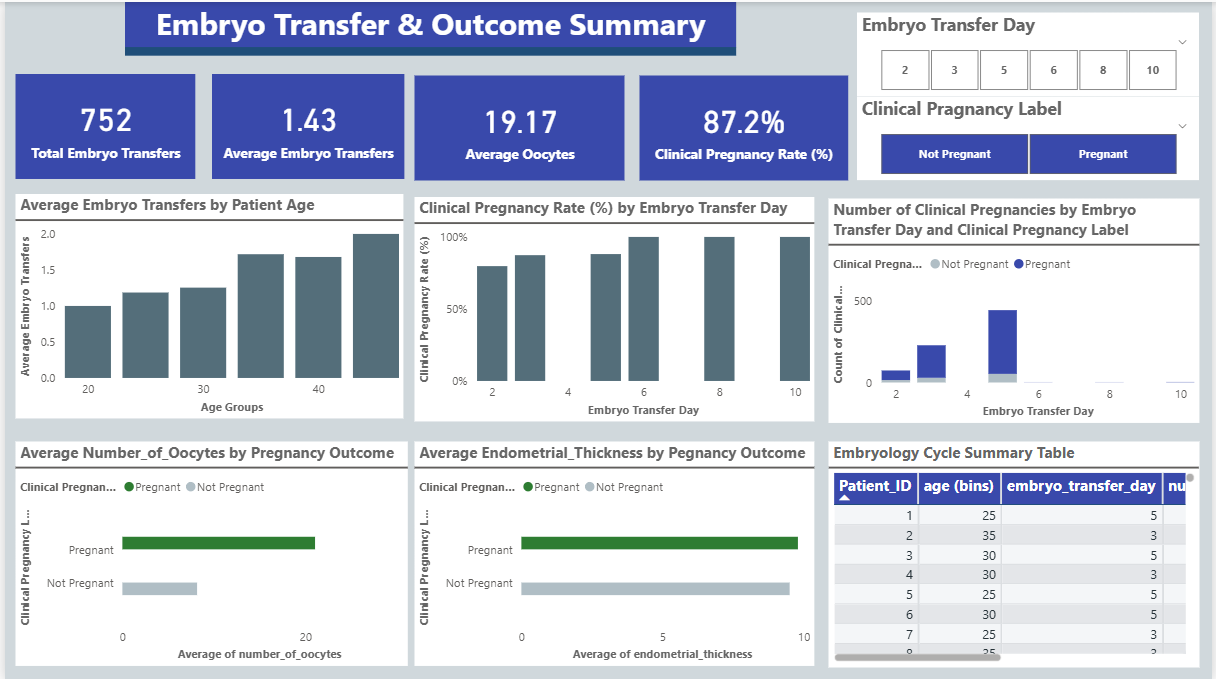

Layout of this report page (visuals, bound fields, positions):
{"tool":"powerbi","page":{"name":"Embryologist_Dashboard","canvas":[1280,720],"ordinal":3},"visuals":[{"type":"clusteredBarChart","title":"Average Number_of_Oocytes by Pregnancy Outcome","fields":{"Y":["Avg(ivf_dataset.number_of_oocytes)"],"Category":["ivf_dataset.Clinical Pregnancy Label"],"Series":["ivf_dataset.Clinical Pregnancy Label"]},"box":[11.3,466.4,416.2,238.1],"z":0},{"type":"clusteredColumnChart","title":"Clinical Pregnancy Rate (%) by Embryo Transfer Day","fields":{"Category":["ivf_dataset.embryo_transfer_day"],"Y":["ivf_dataset.Clinical Pregnancy Rate (%)"]},"box":[434,207.3,424.3,238.1],"z":1000},{"type":"columnChart","title":"Number of Clinical Pregnancies by Embryo Transfer Day and Clinical Pregnancy Label","fields":{"Category":["ivf_dataset.embryo_transfer_day"],"Y":["CountNonNull(ivf_dataset.Clinical Pregnancy Label)"],"Series":["ivf_dataset.Clinical Pregnancy Label"]},"box":[873.1,207.9,393.1,238.1],"z":2000},{"type":"card","fields":{"Values":["ivf_dataset.Total Embryo Transfers"]},"box":[11.3,75.6,190.9,111.5],"z":3000},{"type":"card","fields":{"Values":["ivf_dataset.Clinical Pregnancy Rate (%)"]},"box":[672.8,77.5,221.1,111.5],"z":4000},{"type":"card","fields":{"Values":["ivf_dataset.Average Embryo Transfers"]},"box":[219.2,75.6,204.1,111.5],"z":5000},{"type":"card","fields":{"Values":["ivf_dataset.Average Oocytes"]},"box":[434.6,77.5,223,111.5],"z":6000},{"type":"clusteredColumnChart","title":"Average Embryo Transfers by Patient Age","fields":{"Category":["ivf_dataset.age (bins)"],"Y":["ivf_dataset.Average Embryo Transfers"]},"box":[11.3,204.1,411.4,238.1],"z":7000},{"type":"clusteredBarChart","title":"Average Endometrial_Thickness by Pegnancy Outcome","fields":{"Category":["ivf_dataset.Clinical Pregnancy Label"],"Y":["Avg(ivf_dataset.endometrial_thickness)"],"Series":["ivf_dataset.Clinical Pregnancy Label"]},"box":[434,466.4,424.3,238.1],"z":8000},{"type":"tableEx","title":"Embryology Cycle Summary Table","fields":{"Values":["ivf_dataset.Patient_ID","ivf_dataset.age (bins)","ivf_dataset.embryo_transfer_day","ivf_dataset.number_of_oocytes","ivf_dataset.Clinical Pregnancy Label","ivf_dataset.live_birth"]},"box":[873.2,466,392.9,238.6],"z":9000},{"type":"slicer","title":"Embryo Transfer Day","fields":{"Values":["ivf_dataset.embryo_transfer_day"]},"box":[903.3,11.3,362.8,88.8],"z":10000},{"type":"slicer","title":"Clinical Pragnancy Label","fields":{"Values":["ivf_dataset.Clinical Pregnancy Label"]},"box":[903.3,100.2,362.8,88.8],"z":11000},{"type":"shape","title":"Embryo Transfer & Outcome Summary","box":[126.6,0,648.2,56.7],"z":12000}]}

Visuals, with their boxes in screenshot pixels (x1, y1, x2, y2), scaled from the page's 1280x720 canvas onto the 1216x679 screenshot:
"Average Number_of_Oocytes by Pregnancy Outcome" clusteredBarChart: 11 440 406 664
"Clinical Pregnancy Rate (%) by Embryo Transfer Day" clusteredColumnChart: 412 195 815 420
"Number of Clinical Pregnancies by Embryo Transfer Day and Clinical Pregnancy Label" columnChart: 829 196 1203 421
card - ivf_dataset.Total Embryo Transfers: 11 71 192 176
card - ivf_dataset.Clinical Pregnancy Rate (%): 639 73 849 178
card - ivf_dataset.Average Embryo Transfers: 208 71 402 176
card - ivf_dataset.Average Oocytes: 413 73 625 178
"Average Embryo Transfers by Patient Age" clusteredColumnChart: 11 192 402 417
"Average Endometrial_Thickness by Pegnancy Outcome" clusteredBarChart: 412 440 815 664
"Embryology Cycle Summary Table" tableEx: 830 439 1203 664
"Embryo Transfer Day" slicer: 858 11 1203 94
"Clinical Pragnancy Label" slicer: 858 94 1203 178
"Embryo Transfer & Outcome Summary" shape: 120 0 736 53
